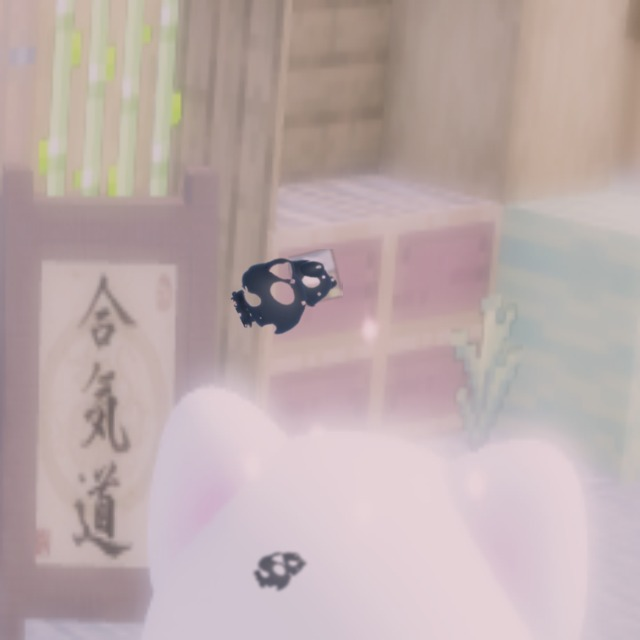urso_branco: (288, 249, 343, 307)
urso_preto: (220, 230, 357, 354), (248, 538, 317, 602)
